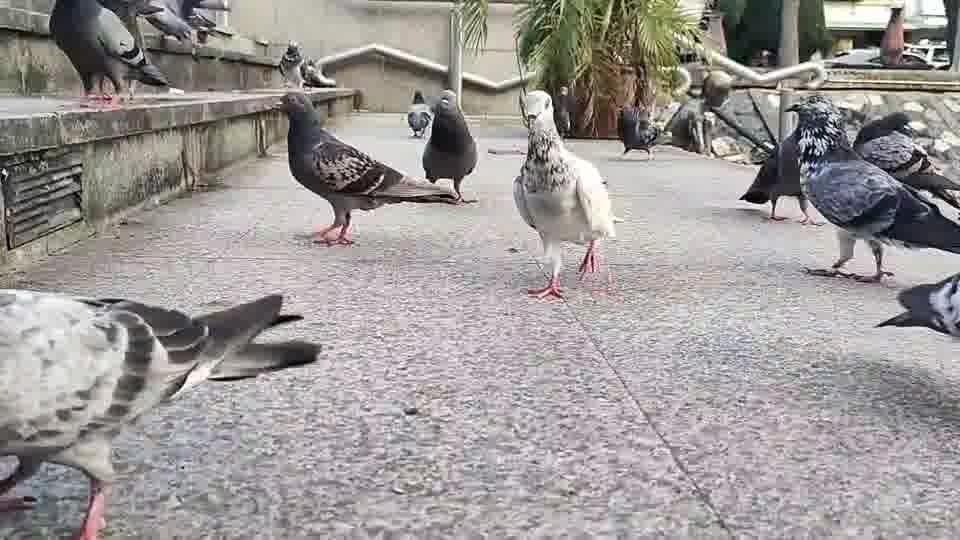Pigeon: (0, 286, 321, 538), (782, 94, 958, 282), (272, 91, 459, 246), (511, 88, 620, 300), (47, 0, 171, 102), (851, 110, 959, 209), (738, 129, 821, 224), (419, 88, 478, 204), (872, 271, 959, 338), (615, 104, 658, 160), (276, 39, 307, 89), (406, 89, 432, 138), (300, 56, 336, 87)
